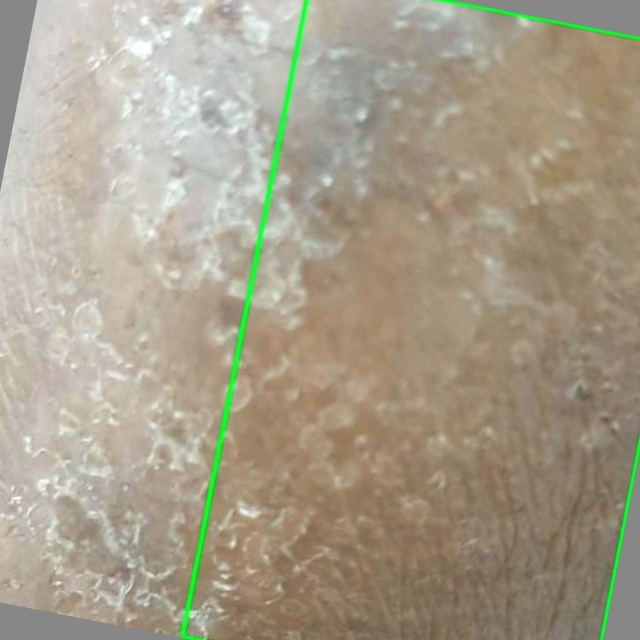Eczema: (181, 0, 639, 639)
